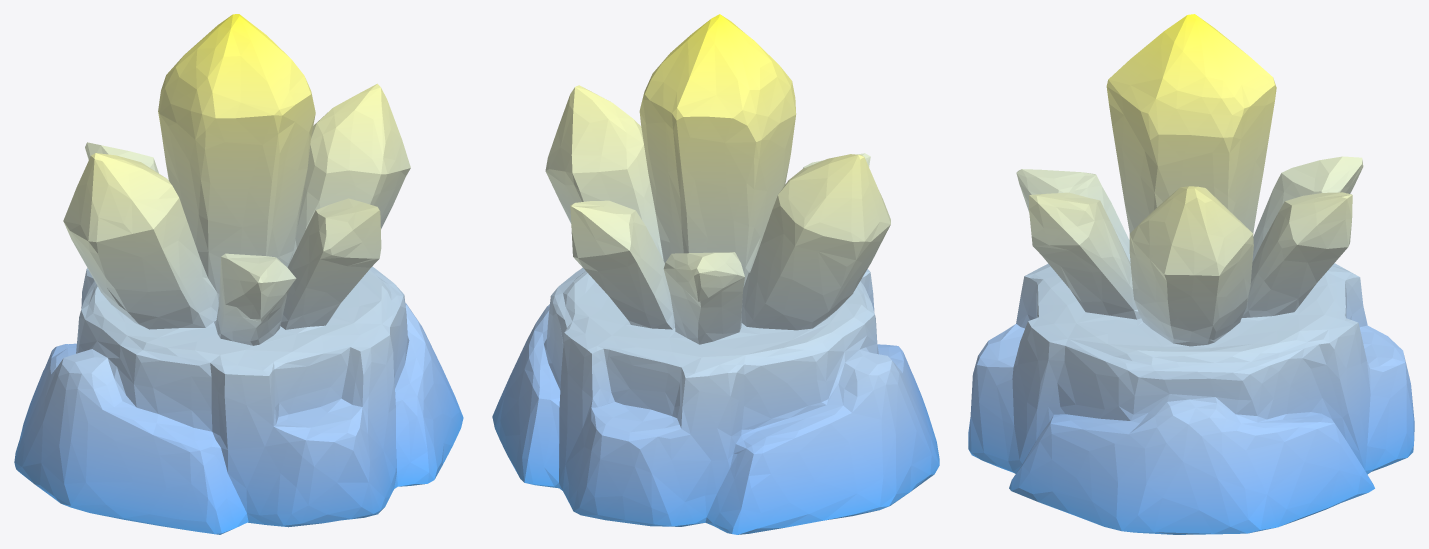
The model's file is 119_cyb_laser_gradient_fish_scales_2924_2026_10_03_023f2f.glb.
The picture shows the model from 3 angles, left to right: view 1: azimuth 30°, elevation 25°; view 2: azimuth 150°, elevation 25°; view 3: azimuth 270°, elevation 25°; orthographic projection.
Visible parts, largest first — view 1: geometry_0; view 2: geometry_0; view 3: geometry_0.
Part boxes in pixels (x1=…): geometry_0: x1=14, y1=14, x2=463, y2=534; geometry_0: x1=492, y1=14, x2=939, y2=534; geometry_0: x1=968, y1=14, x2=1414, y2=534.
Size of the model in its own units: 0.9579 by 0.9997 by 0.9423.
